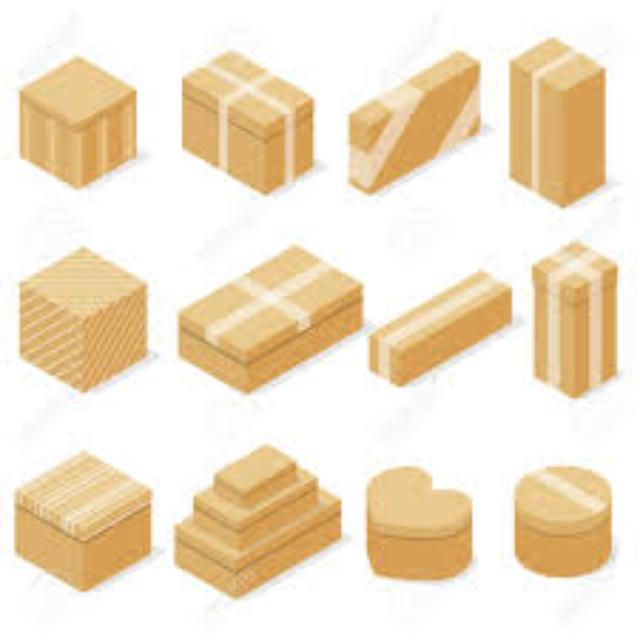cardboard paper: (171, 239, 361, 393), (168, 438, 341, 594), (9, 444, 151, 589), (176, 43, 313, 191), (11, 239, 145, 390), (341, 46, 478, 193), (503, 31, 606, 205), (361, 265, 509, 384), (17, 245, 142, 384), (11, 48, 134, 185), (526, 233, 617, 395), (358, 458, 469, 577), (506, 458, 612, 575)
